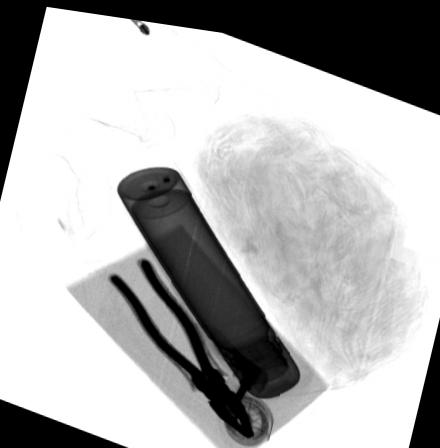Pliers: (107, 252, 256, 432)
